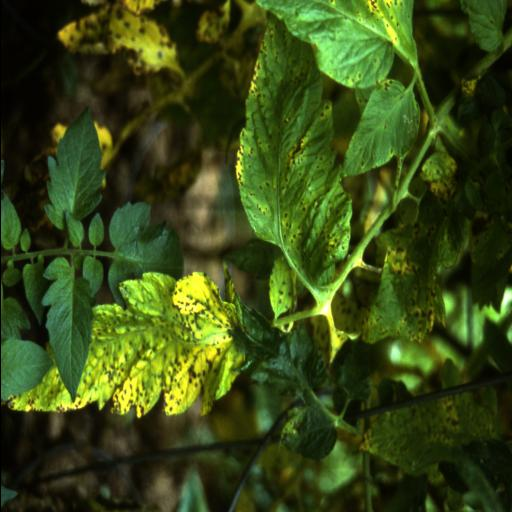Healthy: (42, 106, 106, 232), (40, 257, 94, 404), (0, 337, 55, 404)
Septoria: (10, 265, 246, 421), (233, 17, 354, 295), (358, 198, 471, 346), (256, 0, 416, 92), (354, 391, 508, 484), (56, 0, 180, 78), (334, 76, 420, 178)
